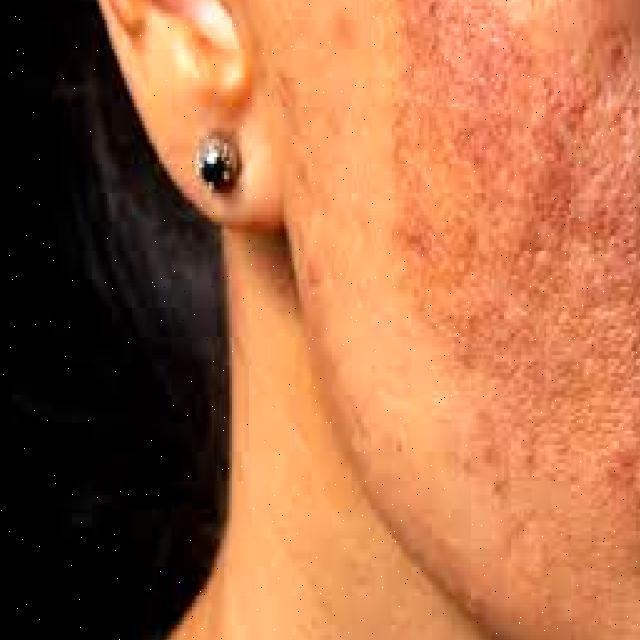Melasma: (356, 5, 640, 570)
